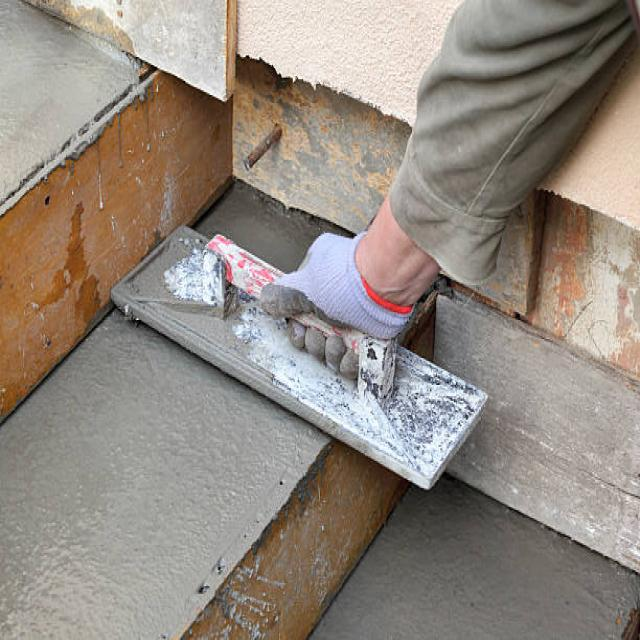gloves: (258, 225, 413, 382)
